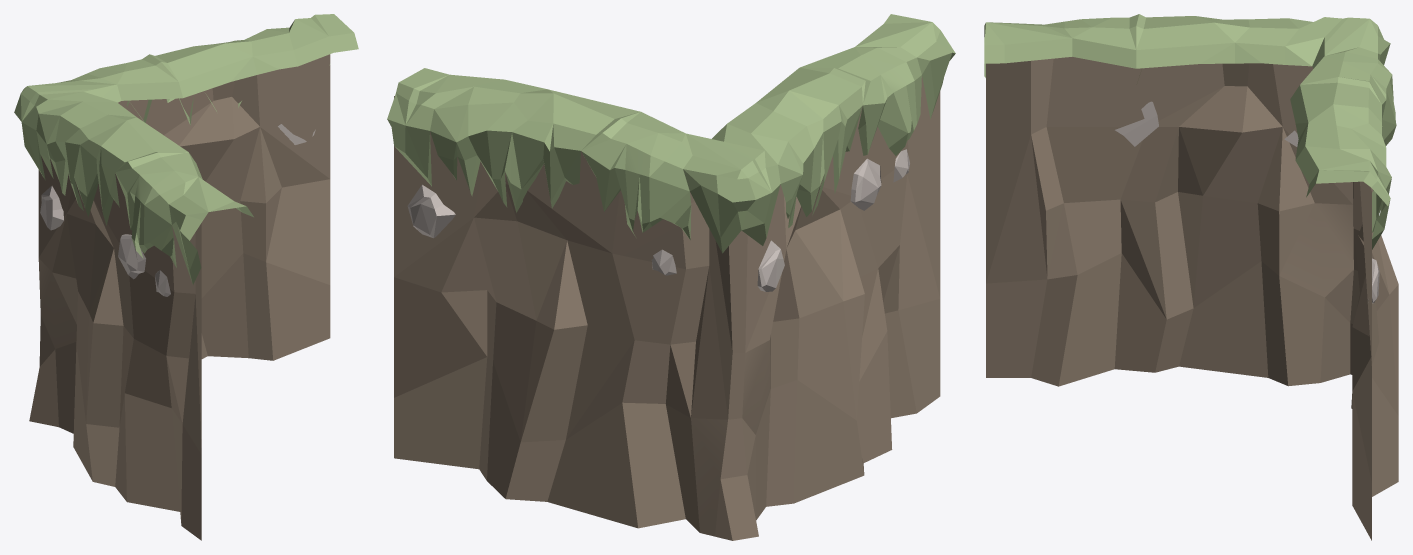
The model's file is ER_Terrain_1x1_GrassCorner_001_A1.fbx.
3 renders of one model, left to right at view 1: azimuth 30°, elevation 25°; view 2: azimuth 150°, elevation 25°; view 3: azimuth 270°, elevation 25°, orthographic. The views are drawn at different scales.
Parts seen in each view (by area): view 1: ER_Terrain_1x1_GrassCorner_001_A1; view 2: ER_Terrain_1x1_GrassCorner_001_A1; view 3: ER_Terrain_1x1_GrassCorner_001_A1.
Boxes of the visible parts, x1=… form: ER_Terrain_1x1_GrassCorner_001_A1: x1=14, y1=14, x2=358, y2=540; ER_Terrain_1x1_GrassCorner_001_A1: x1=387, y1=14, x2=955, y2=540; ER_Terrain_1x1_GrassCorner_001_A1: x1=984, y1=14, x2=1398, y2=540.
Bounding box in the file's own units: 1.07 × 1.06 × 1.07.
